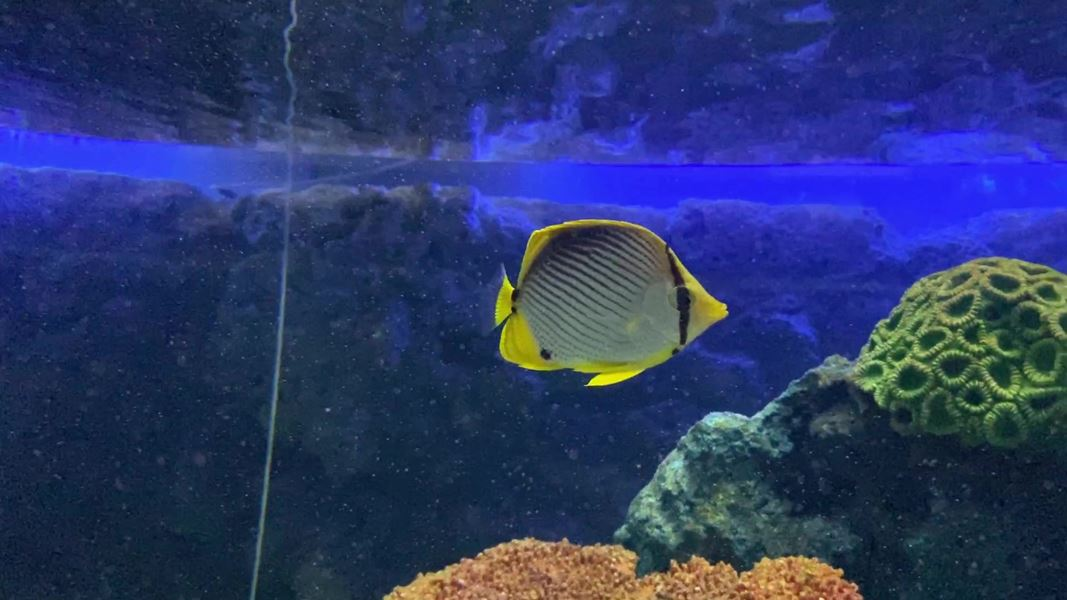Black-backed butterflyfish: (468, 209, 743, 398)
